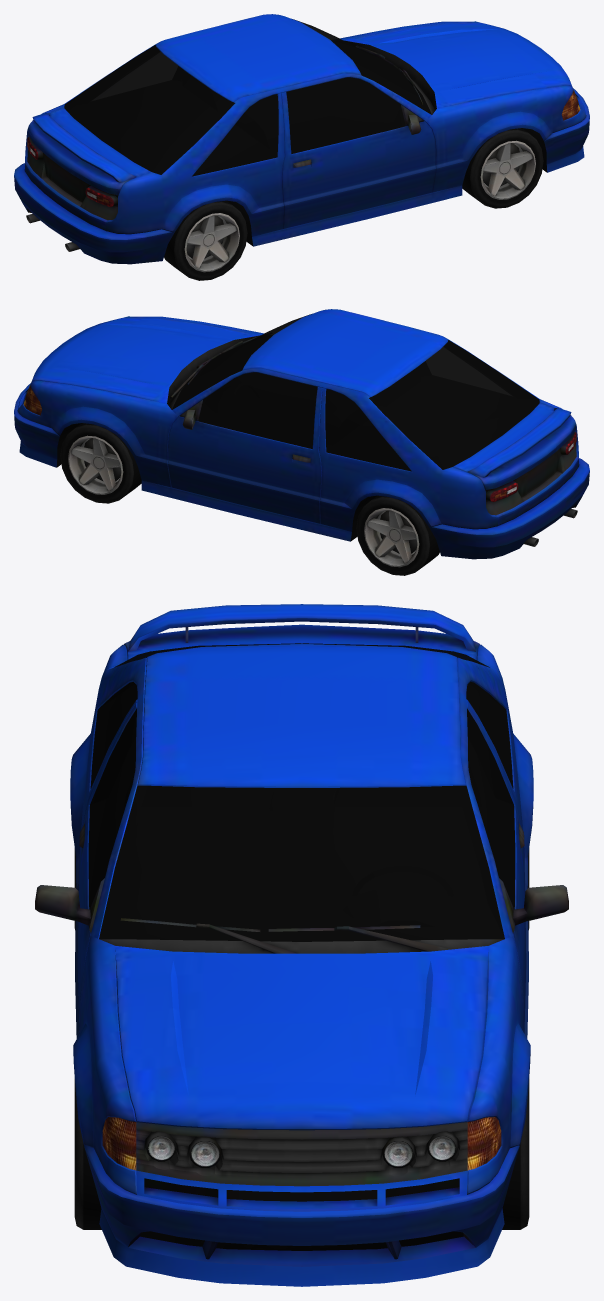
File: traffic_coupe.glb
3 views of the same model, one above another, from view 1: azimuth 30°, elevation 25°; view 2: azimuth 150°, elevation 25°; view 3: azimuth 270°, elevation 25° (orthographic). The views are drawn at different scales.
Visible parts, largest first — view 1: Coupe Body_Body_0, Coupe Body_Glass_0, Wheel_F003_Wheel_0, Wheel_F002_Wheel_0, Coupe Body_Optics_0; view 2: Coupe Body_Body_0, Coupe Body_Glass_0, Wheel_F001_Wheel_0, Wheel_F_Wheel_0, Coupe Body_Optics_0; view 3: Coupe Body_Body_0, Coupe Body_Glass_0, Coupe Body_Optics_0, Wheel_F_Wheel_0, Wheel_F002_Wheel_0.
Boxes of the visible parts, x1,y1,x2,y2 form: Coupe Body_Body_0: (14, 14, 589, 264); Coupe Body_Glass_0: (64, 19, 431, 176); Wheel_F003_Wheel_0: (164, 200, 247, 280); Wheel_F002_Wheel_0: (462, 128, 543, 208); Coupe Body_Optics_0: (27, 91, 580, 206); Coupe Body_Body_0: (14, 309, 589, 559); Coupe Body_Glass_0: (172, 314, 539, 471); Wheel_F001_Wheel_0: (356, 495, 439, 575); Wheel_F_Wheel_0: (60, 423, 141, 503); Coupe Body_Optics_0: (23, 386, 576, 501); Coupe Body_Body_0: (35, 604, 568, 1286); Coupe Body_Glass_0: (88, 643, 515, 941); Coupe Body_Optics_0: (102, 1117, 501, 1170); Wheel_F_Wheel_0: (502, 1079, 529, 1229); Wheel_F002_Wheel_0: (74, 1079, 101, 1229).
Bounding box in the file's own units: 4.24 × 1.28 × 1.88.
Materials: 4 (3 with a texture image).
